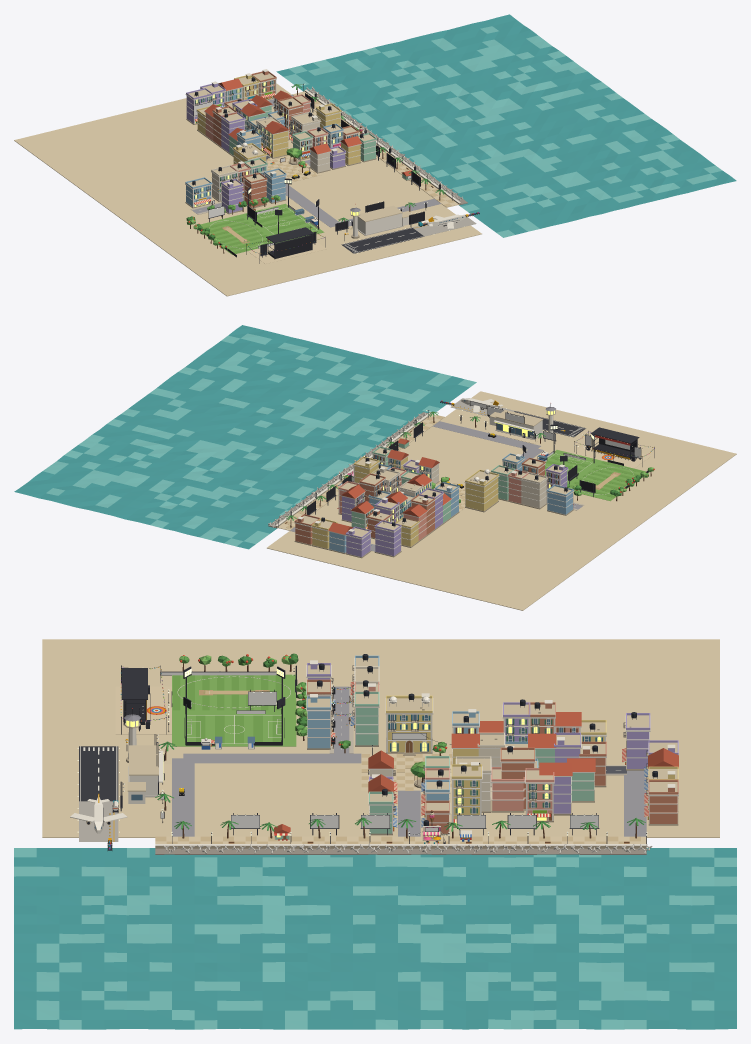
File: world-city-v7-fallback.glb
3 views of the same model, one above another, from view 1: azimuth 30°, elevation 25°; view 2: azimuth 150°, elevation 25°; view 3: azimuth 270°, elevation 25° (orthographic). The views are drawn at different scales.
Visible parts, largest first — view 1: sea, ground, props__trim, maidan__grass, maidan__grass2, props__trimdk, airport__trim, bazaar__trim, maidan__frame, art__trim, props__w_butter, airport__runway (+20 smaller); view 2: sea, ground, maidan__grass, props__trim, bazaar__w_lav, props__trimdk, maidan__grass2, maidan__iron, bazaar__trim, studio__w_butter, props__w_lav, props__roof_t (+18 smaller); view 3: sea, ground, maidan__grass, maidan__grass2, props__trim, seafront__rock, props__trimdk, props__w_terra, seafront__plaza, airport__runway, bazaar__trimdk, seafront__plaza2 (+33 smaller).
Boxes of the visible parts, <box> form: sea: <box>276,14,736,237</box>; ground: <box>14,83,481,296</box>; props__trim: <box>200,69,377,166</box>; maidan__grass: <box>193,203,324,254</box>; maidan__grass2: <box>199,207,313,253</box>; props__trimdk: <box>202,73,376,155</box>; airport__trim: <box>346,211,465,236</box>; bazaar__trim: <box>185,94,289,157</box>; maidan__frame: <box>200,205,319,258</box>; art__trim: <box>185,161,286,207</box>; props__w_butter: <box>234,75,360,164</box>; airport__runway: <box>341,227,424,253</box>; sea: <box>14,325,476,549</box>; ground: <box>267,391,736,610</box>; maidan__grass: <box>545,450,649,500</box>; props__trim: <box>294,453,439,550</box>; bazaar__w_lav: <box>374,488,443,556</box>; props__trimdk: <box>295,448,418,538</box>; maidan__grass2: <box>545,456,648,497</box>; maidan__iron: <box>522,424,654,497</box>; bazaar__trim: <box>366,481,459,550</box>; studio__w_butter: <box>465,469,498,510</box>; props__w_lav: <box>342,459,418,556</box>; props__roof_t: <box>328,449,439,534</box>; sea: <box>14,848,736,1029</box>; ground: <box>42,639,719,837</box>; maidan__grass: <box>172,674,296,746</box>; maidan__grass2: <box>173,675,281,743</box>; props__trim: <box>368,743,678,833</box>; seafront__rock: <box>155,848,646,854</box>; props__trimdk: <box>370,742,677,810</box>; props__w_terra: <box>425,747,678,833</box>; seafront__plaza: <box>155,836,646,843</box>; airport__runway: <box>79,746,118,801</box>; bazaar__trimdk: <box>452,704,649,756</box>; seafront__plaza2: <box>155,836,640,843</box>.
Bounding box in the file's own units: 326 × 22.62 × 256.
